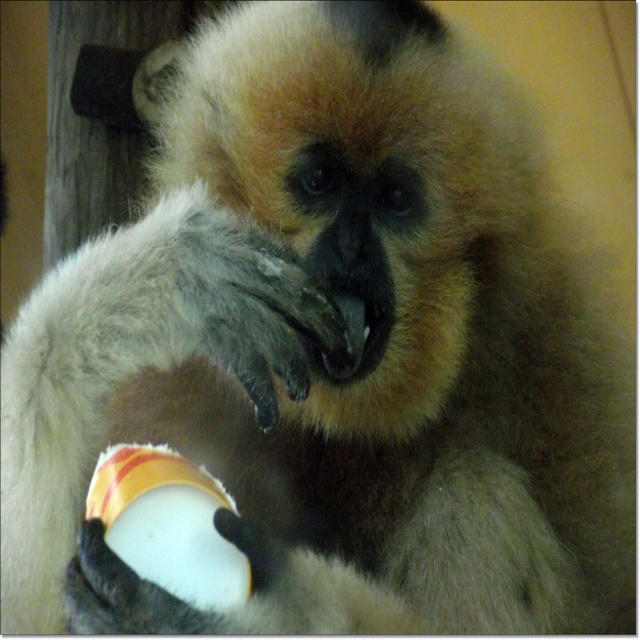Monkey: (0, 0, 636, 634)
